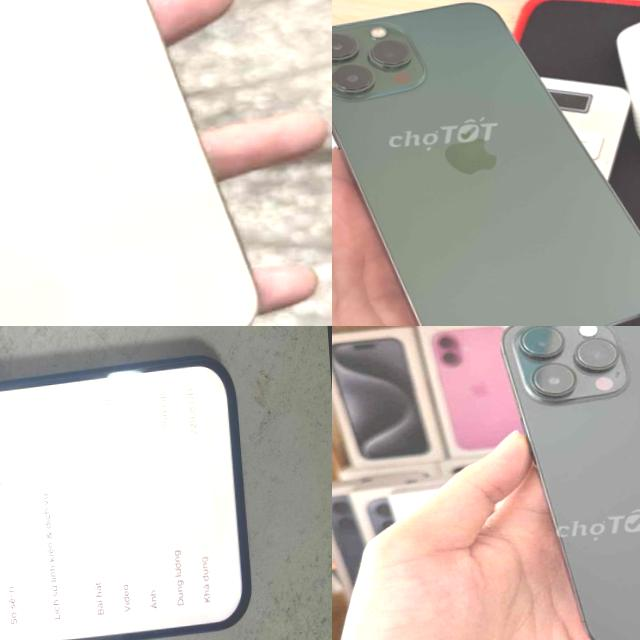gen_12_13: (332, 0, 640, 326)
gen_14: (485, 326, 640, 640)
gen_15: (0, 344, 268, 640)
gen_16: (0, 0, 281, 326)
